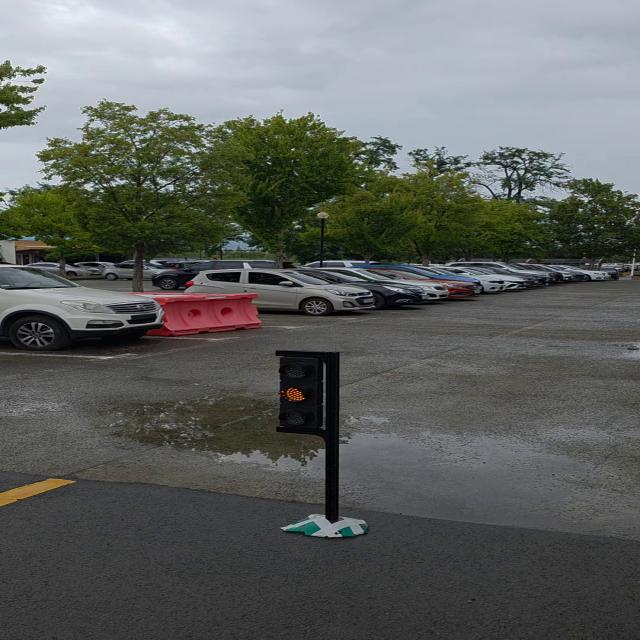yellow: (274, 355, 335, 434)
